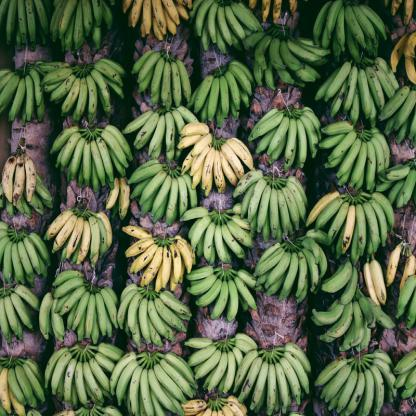banana: (113, 198, 202, 300)
